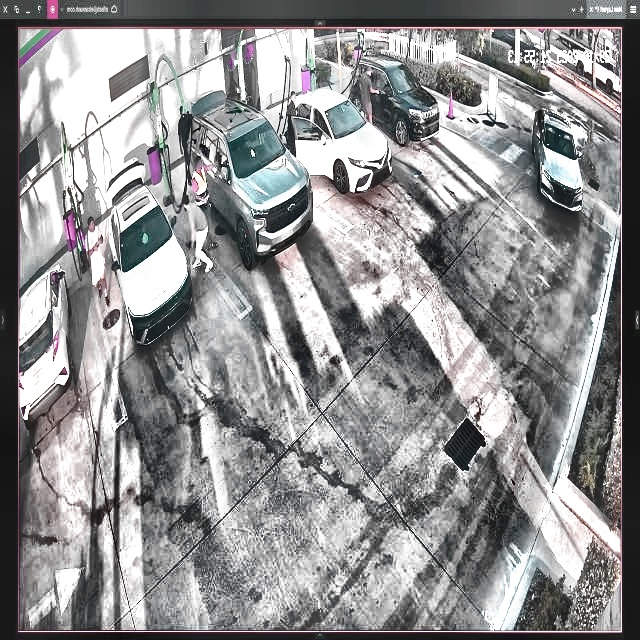Car: (187, 91, 311, 265), (105, 160, 190, 342), (278, 87, 391, 191)
